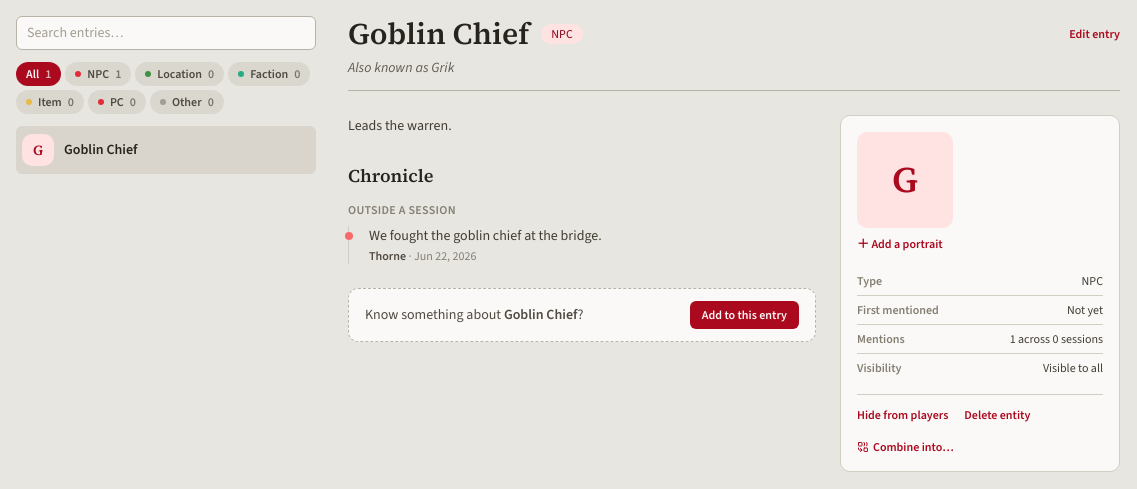
Scenario: EntityDetailPage (#248) › lets an OWNER hide a revealed entity via updateEntity (#523)
Click the button "Hide from players". click: x=903, y=415
box: [857,407,948,423]
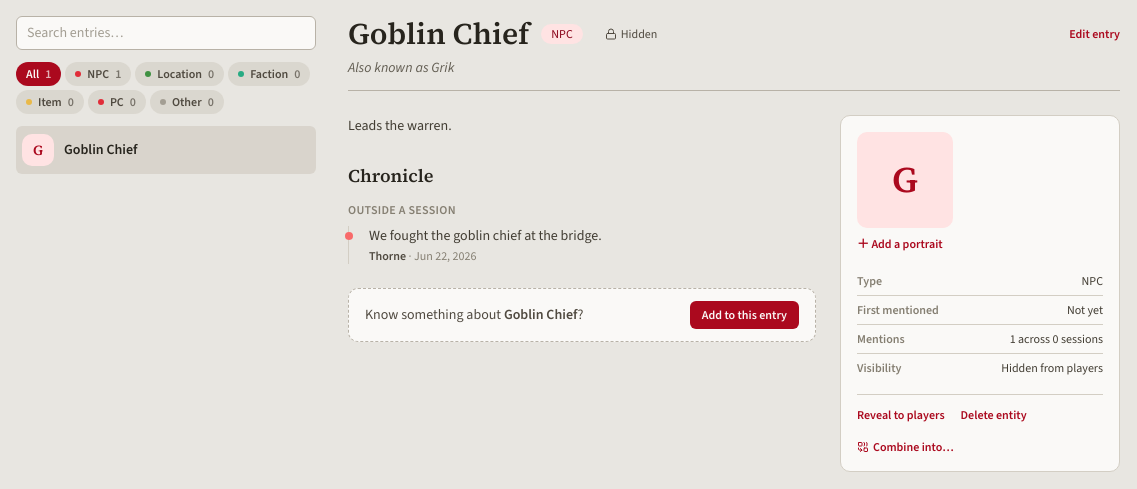
Result: the button "Reveal to players" is shown at [857,407,945,423]
